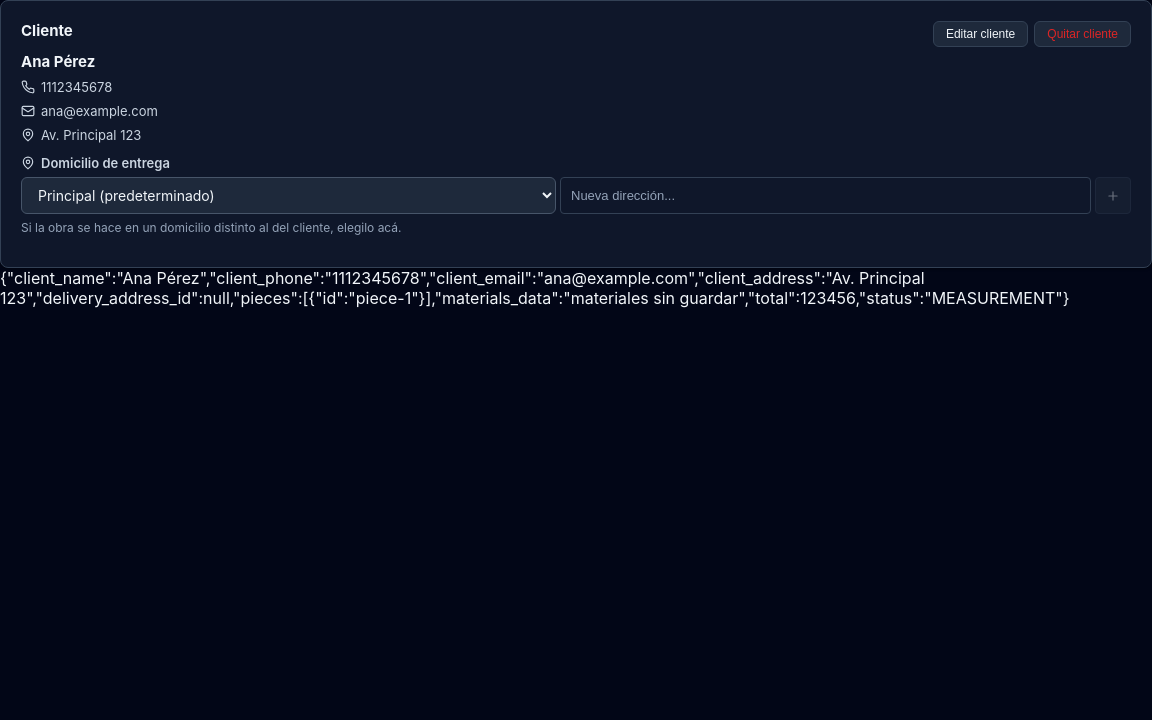
Scenario: EditClientModal › shows the button, opens with current data, and cancels without saving
Click the button "Editar cliente": (981, 34) top-left (933, 21), bottom-right (1028, 47)
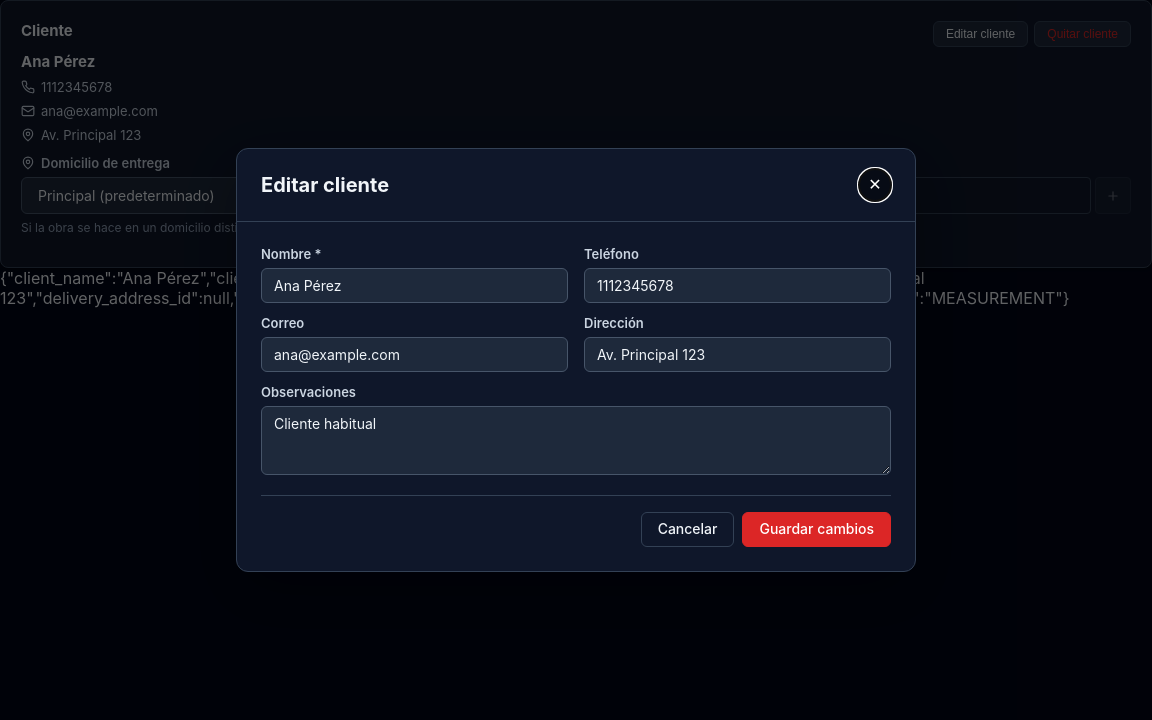
Result: the dialog is shown at top-left (236, 148), bottom-right (916, 572)
Result: the field showing "Ana Pérez" below "Nombre *" is shown at top-left (261, 268), bottom-right (568, 303)
Result: the field showing "ana@example.com" below "Correo" is shown at top-left (261, 337), bottom-right (568, 372)
Click the button "Cancelar": (688, 530) top-left (641, 512), bottom-right (734, 547)
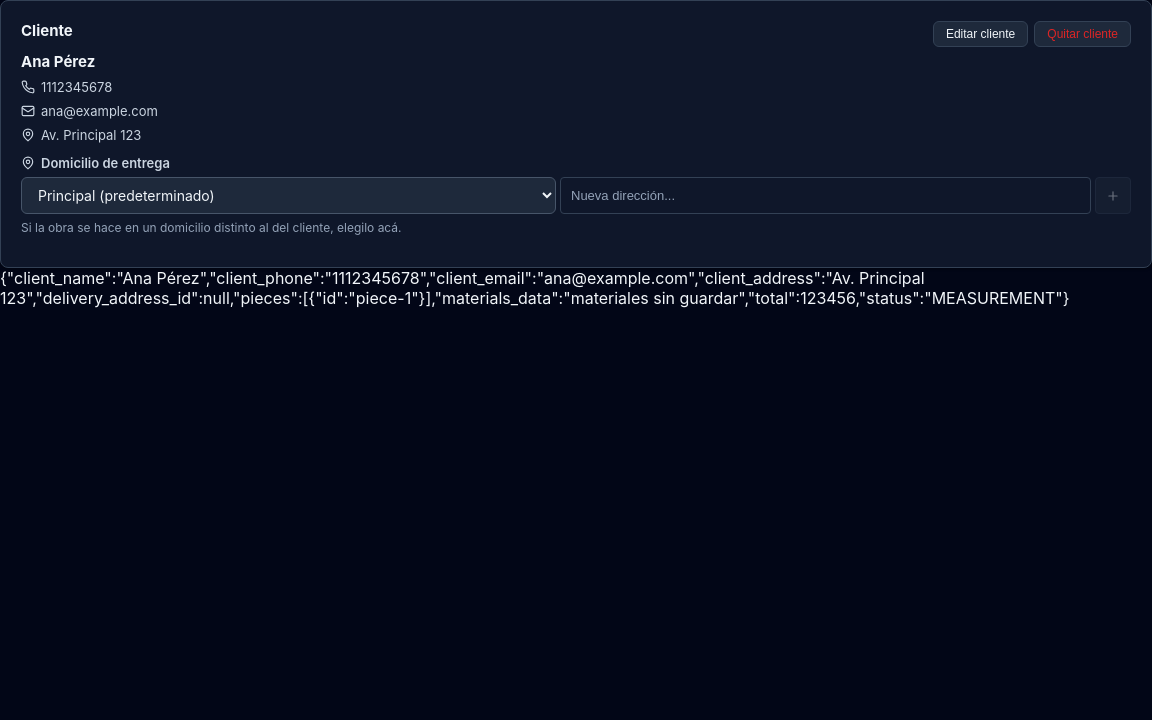
Result: the dialog is gone
